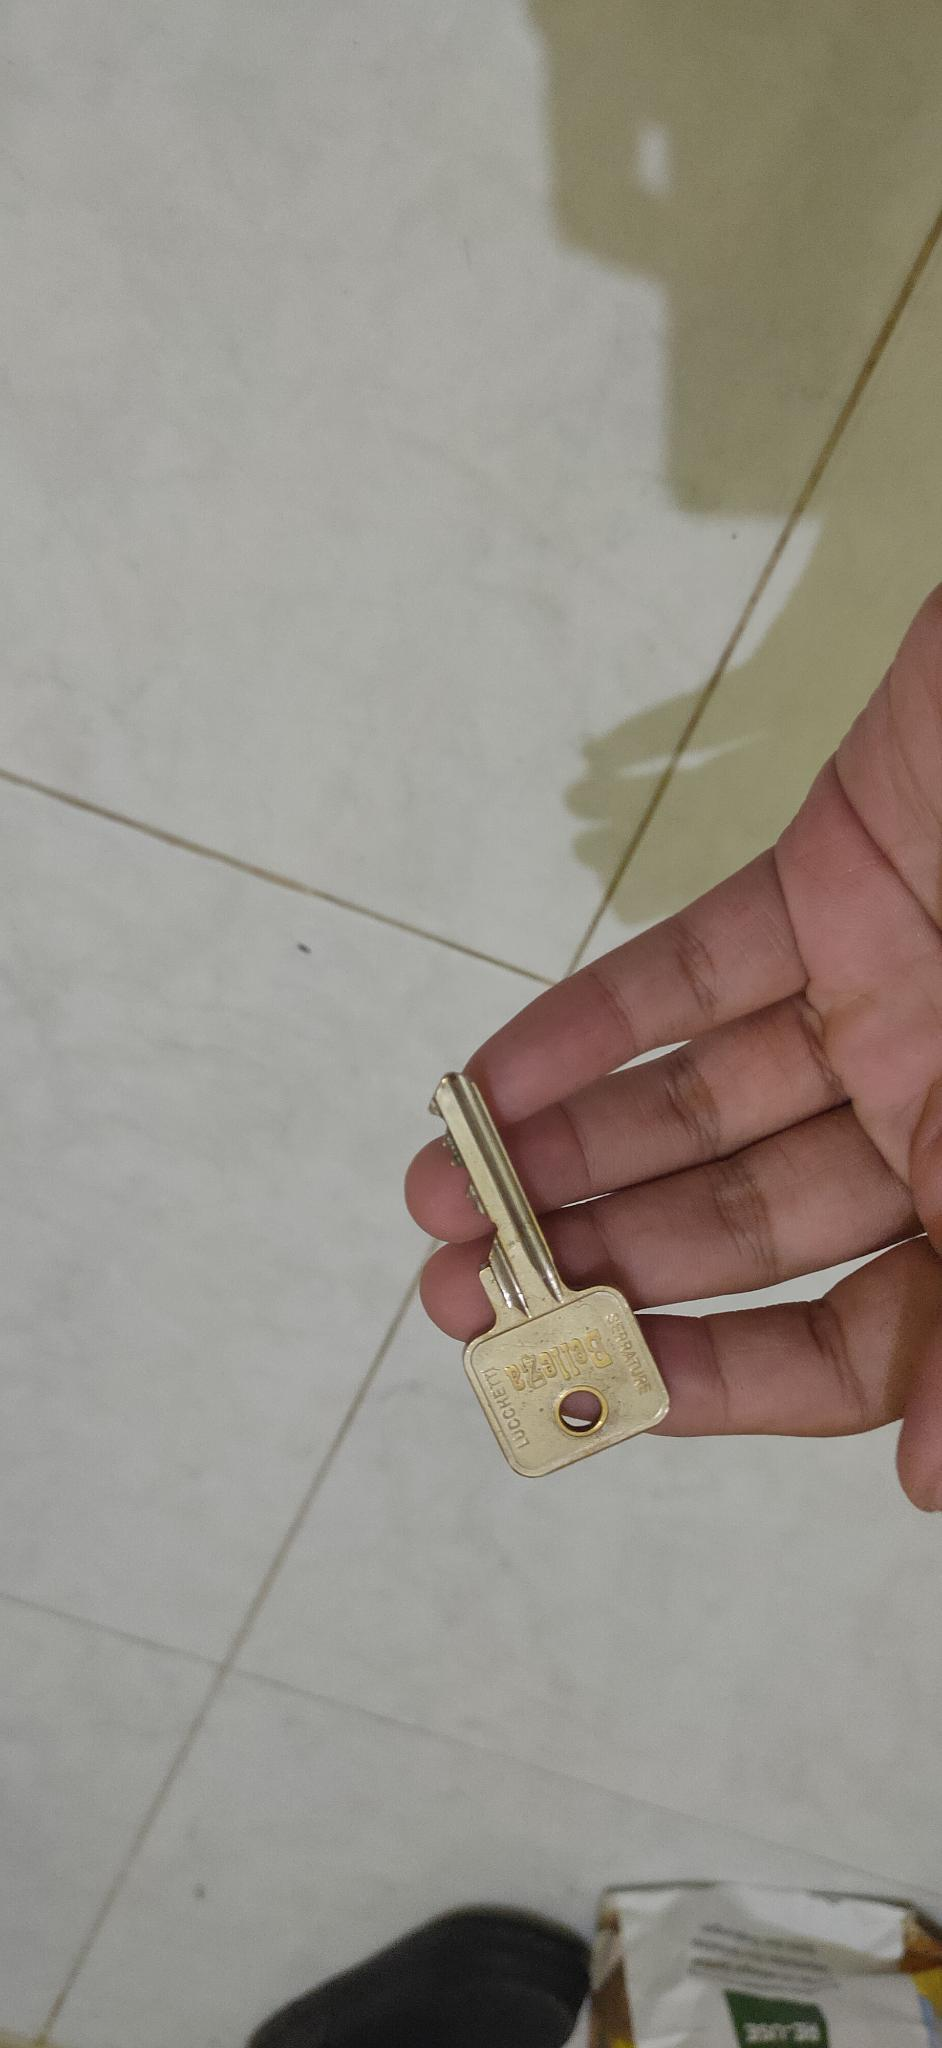keys: (410, 1061, 675, 1499)
